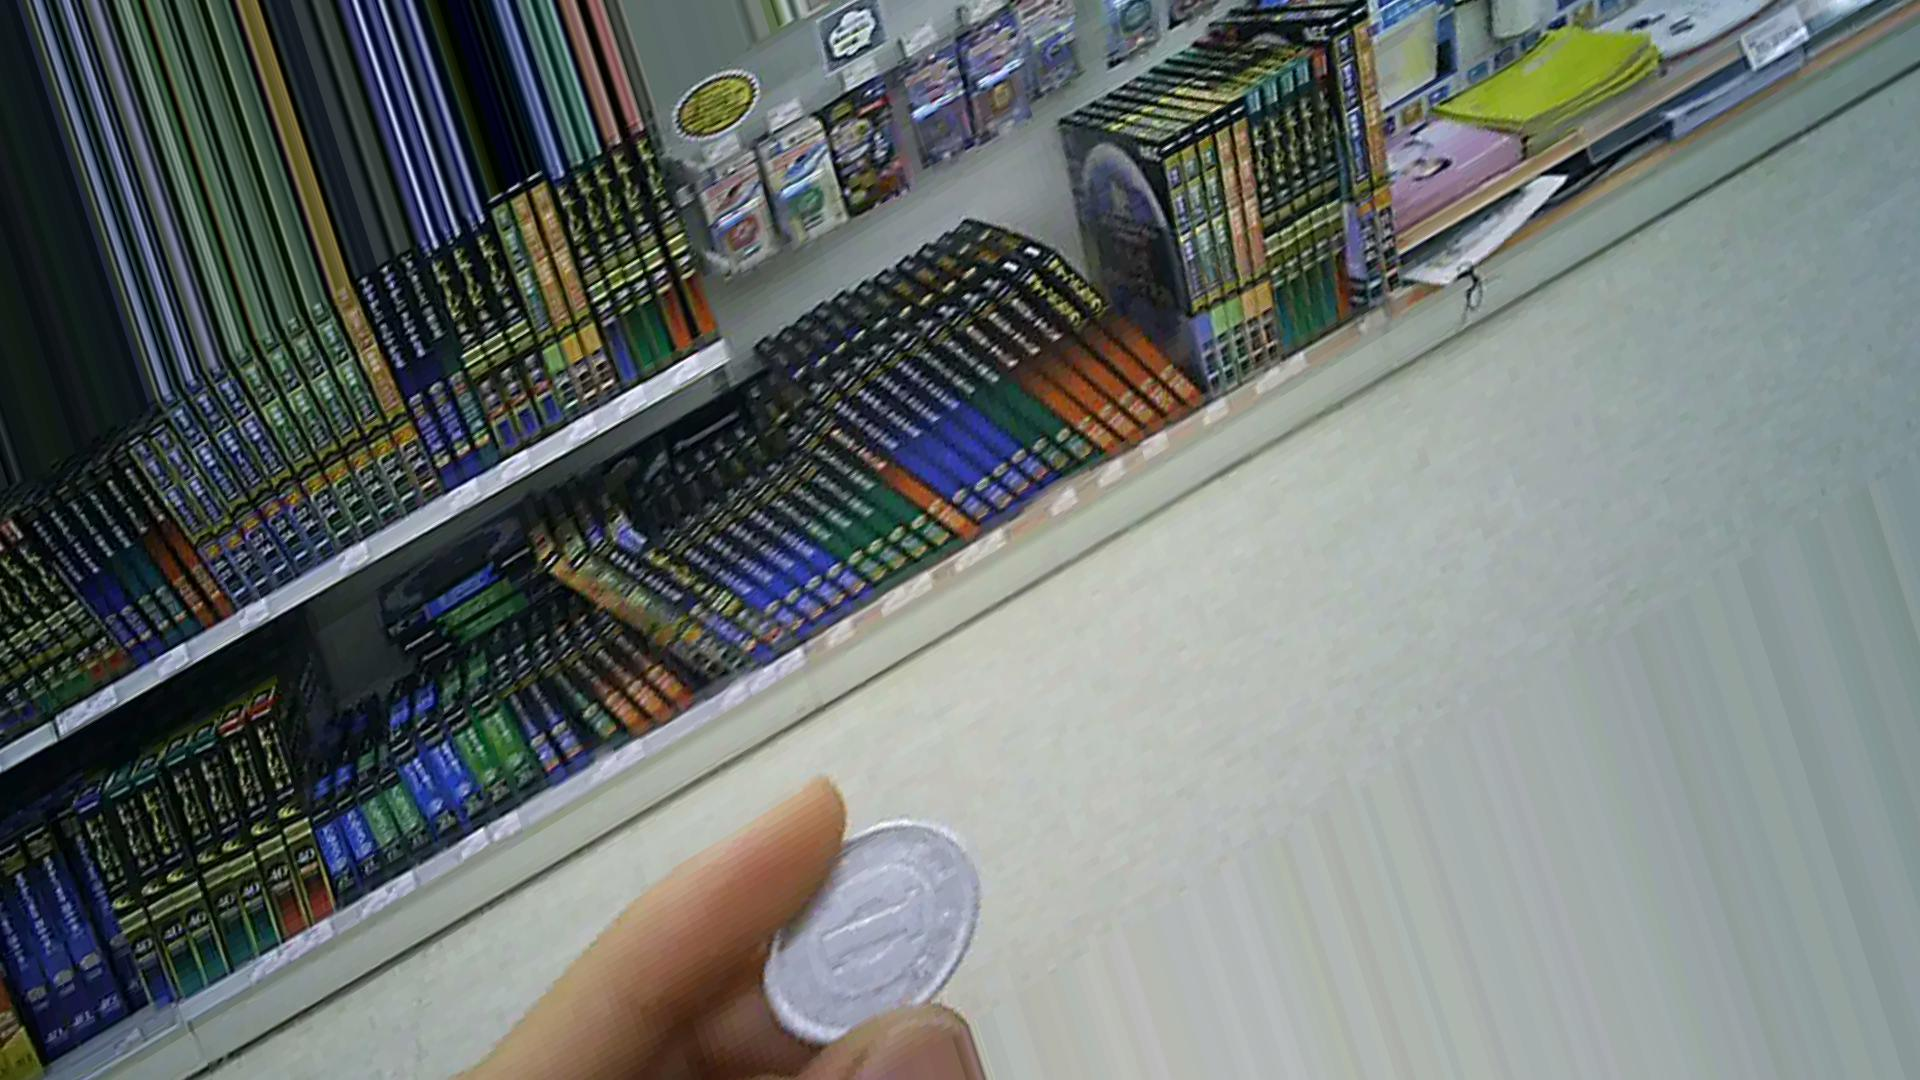1 Yen: (744, 825, 1002, 1040)
